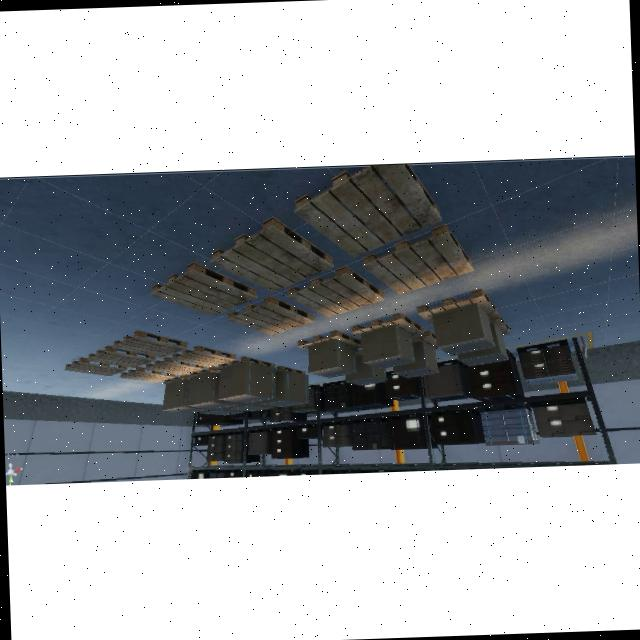wooden_pallet: (291, 163, 441, 256), (210, 214, 334, 293), (360, 222, 473, 294), (149, 262, 257, 316), (286, 266, 383, 317), (226, 297, 313, 335), (416, 288, 498, 324), (112, 329, 189, 357), (349, 312, 424, 337), (87, 346, 155, 368), (296, 329, 362, 351), (172, 346, 237, 367), (63, 356, 128, 377), (145, 356, 204, 375), (119, 367, 175, 383), (218, 356, 275, 368)
